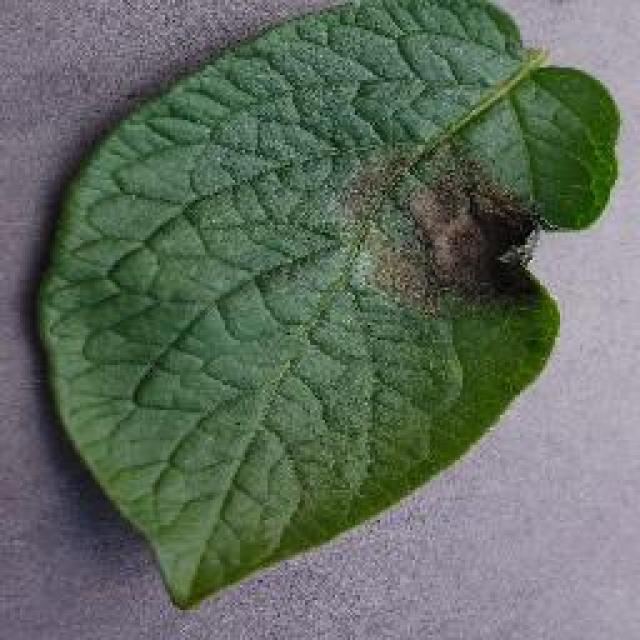Potato___Late_blight: (26, 0, 622, 620)
